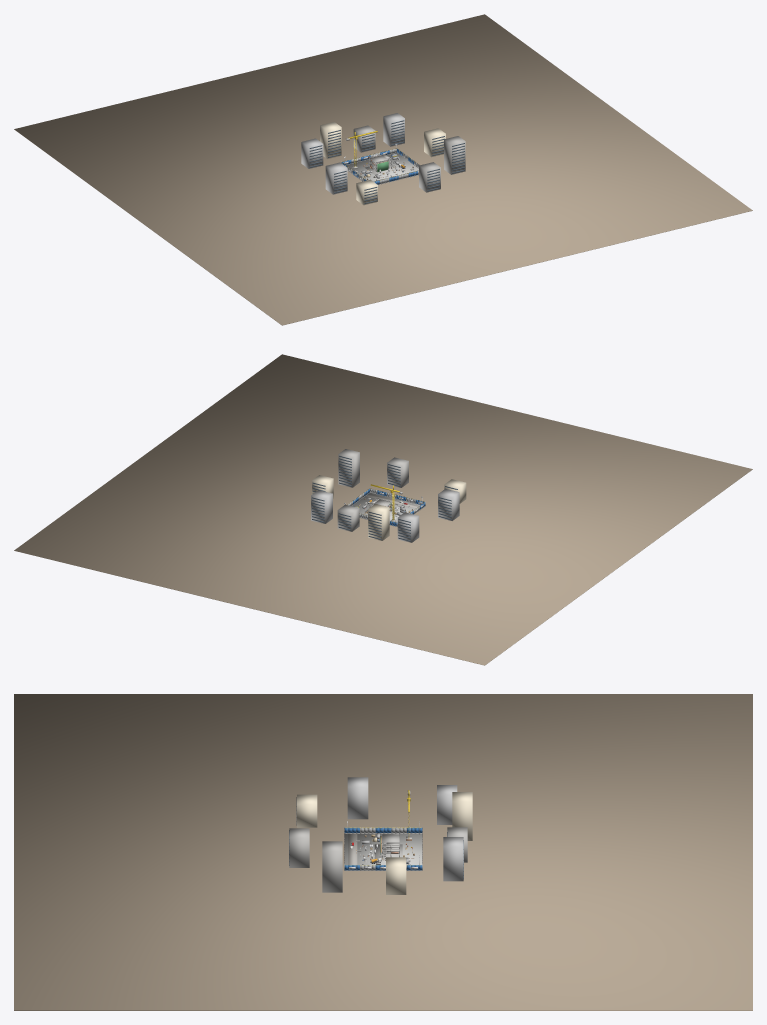
File: insaat.glb
3 views of the same model, one above another, from view 1: azimuth 30°, elevation 25°; view 2: azimuth 150°, elevation 25°; view 3: azimuth 270°, elevation 25° (orthographic). The views are drawn at different scales.
Visible parts, largest first — view 1: chunk_0_0, far_1_-2, far_-1_1, far_1_1, far_-2_-1, far_-2_1, far_0_-2, far_1_0; view 2: chunk_0_0, far_1_-2, far_-1_1, far_1_1, far_-2_-1, far_-2_1, far_0_-2, far_0_1; view 3: chunk_0_0, far_1_-2, far_1_1, far_-2_-1, far_0_-2, far_-1_1, far_1_0, far_-2_-2, far_-2_1.
Part boxes in pixels (x1,y1,x2,y2): chunk_0_0: (14,14,752,325); far_1_-2: (444,136,465,174); far_-1_1: (320,122,341,158); far_1_1: (383,113,404,146); far_-2_-1: (325,162,347,194); far_-2_1: (301,138,323,168); far_0_-2: (419,162,440,192); far_1_0: (424,128,445,157); chunk_0_0: (14,354,752,665); far_1_-2: (338,449,359,487); far_-1_1: (368,504,389,540); far_1_1: (311,490,332,523); far_-2_-1: (438,489,459,520); far_-2_1: (397,512,419,542); far_0_-2: (387,457,408,487); far_0_1: (337,504,359,531); chunk_0_0: (14,694,752,1010); far_1_-2: (322,841,342,892); far_1_1: (443,837,463,881); far_-2_-1: (347,777,368,819); far_0_-2: (289,828,309,867); far_-1_1: (452,792,472,840); far_1_0: (386,857,406,894); far_-2_-2: (296,794,317,827); far_-2_1: (437,785,457,824).
Bounding box in the file's own units: 588 × 42.8 × 580.
